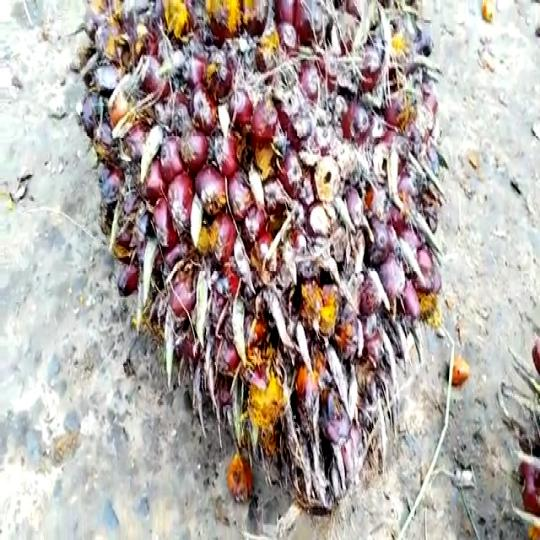masak: (78, 0, 455, 528)
